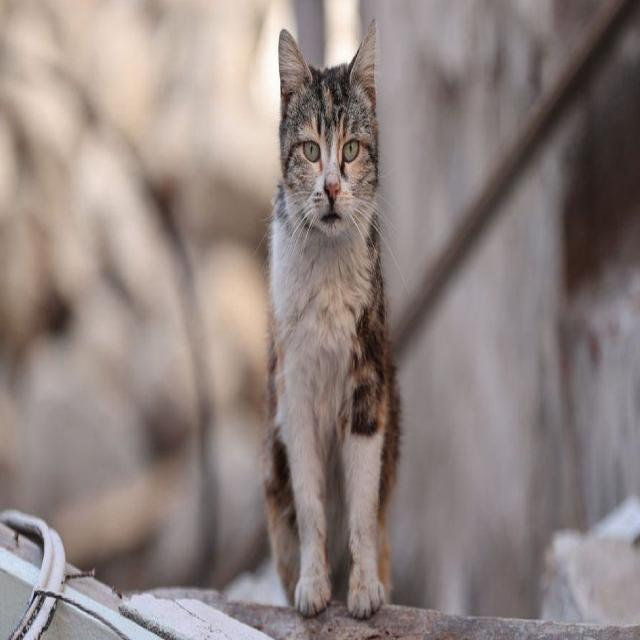cat: (265, 22, 400, 618)
